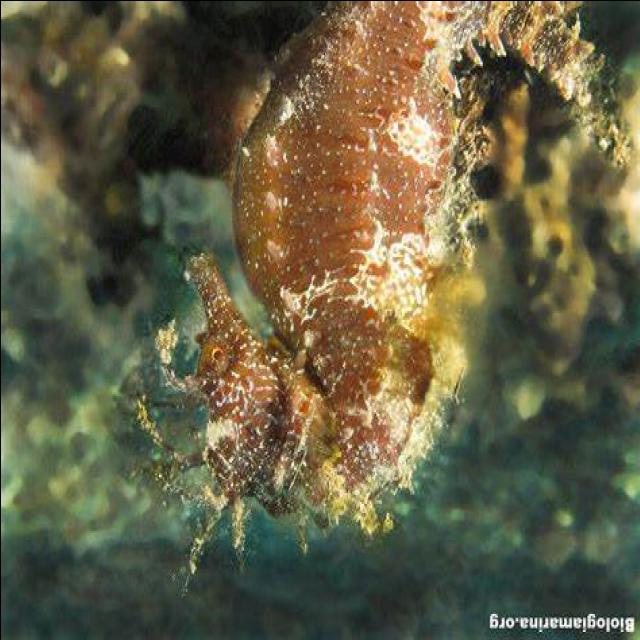Guttu: (170, 239, 313, 515)
